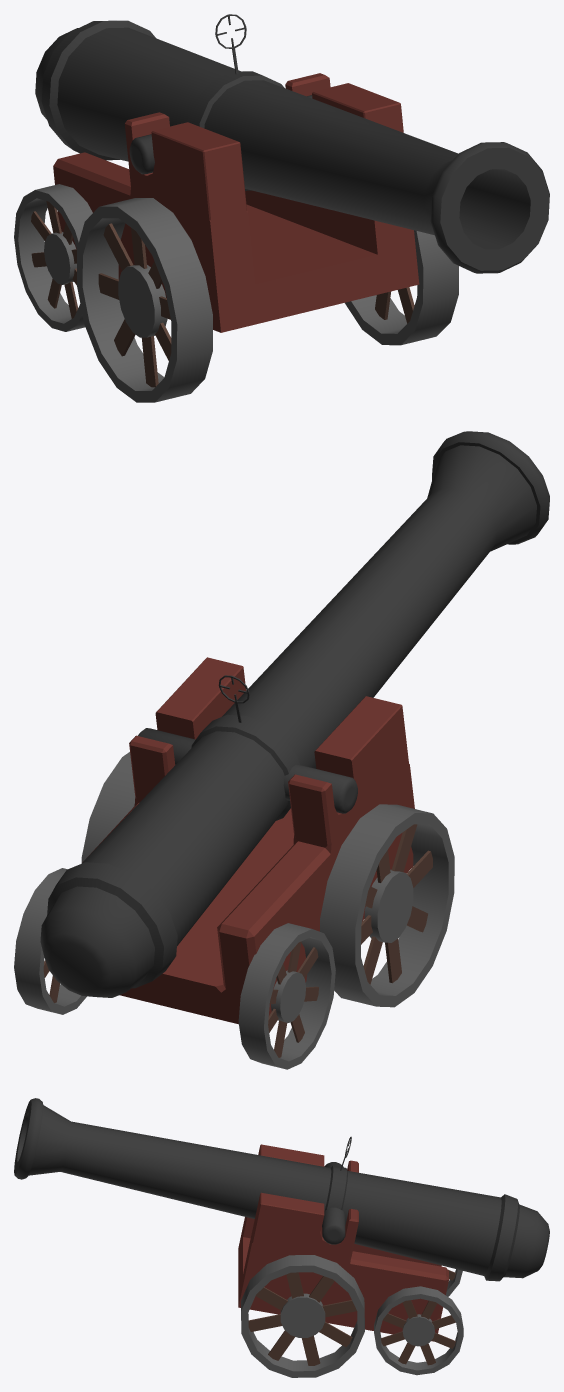
The model's file is cannon2.fbx.
3 renders of one model, top to bottom at view 1: azimuth 30°, elevation 25°; view 2: azimuth 150°, elevation 25°; view 3: azimuth 270°, elevation 25°, orthographic. The views are drawn at different scales.
Visible parts, largest first — view 1: Circle, Plane.001, Circle.007, Circle.008, Circle.011, Plane.010, Circle.006, Plane.004, Circle.012, Circle.002, Plane.011; view 2: Circle, Plane.001, Circle.007, Circle.011, Circle.010, Plane.010, Circle.008, Circle.006, Circle.002, Plane.004, Circle.012; view 3: Circle, Plane.001, Circle.008, Plane.011, Circle.010, Plane.003, Circle.009, Circle.002, Circle.005.
Boxes of the visible parts, x1,y1,x2,y2 form: Circle: (35,20,549,273); Plane.001: (53,73,419,332); Circle.007: (77,198,212,402); Circle.008: (345,230,458,345); Circle.011: (14,184,92,331); Plane.010: (98,223,171,387); Circle.006: (118,265,167,337); Plane.004: (31,201,78,318); Circle.012: (44,232,76,284); Circle.002: (129,95,312,174); Plane.011: (375,287,414,323); Circle: (40,431,549,997); Plane.001: (82,657,414,1024); Circle.007: (320,804,454,1007); Circle.011: (238,923,335,1069); Circle.010: (14,868,86,1014); Plane.010: (361,824,432,984); Circle.008: (81,752,135,862); Circle.006: (364,869,413,942); Circle.002: (138,728,357,813); Plane.004: (268,941,318,1057); Circle.012: (271,970,305,1022); Circle: (14,1098,549,1281); Plane.001: (238,1144,448,1341); Circle.008: (241,1255,364,1377); Plane.011: (248,1272,356,1365); Circle.010: (374,1286,463,1375); Plane.003: (381,1300,455,1365); Circle.009: (280,1293,325,1337); Circle.002: (322,1162,345,1244); Circle.005: (402,1314,434,1346).
Bounding box in the file's own units: 179 × 233 × 482.
